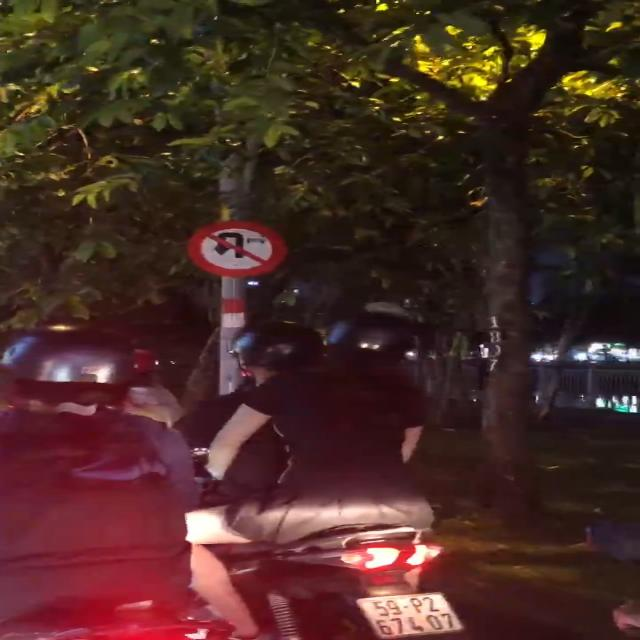Bien bao cam quay dau xe: (182, 217, 288, 277)
